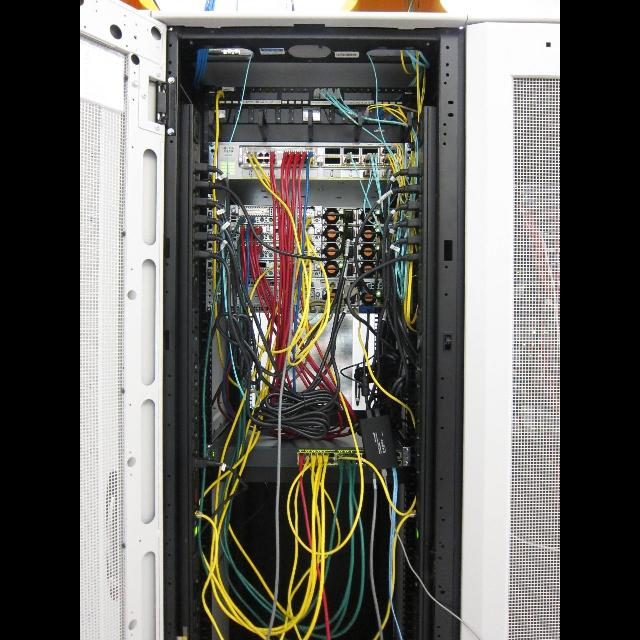Server: (150, 11, 464, 640)
